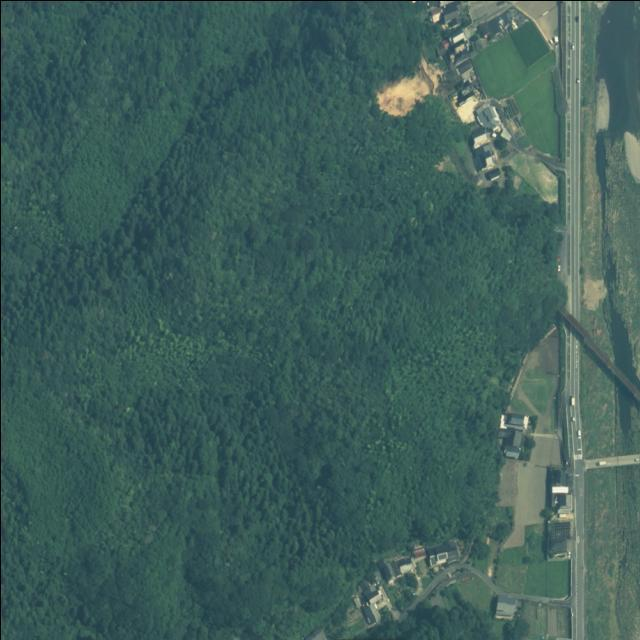landslide: (376, 56, 441, 114)
